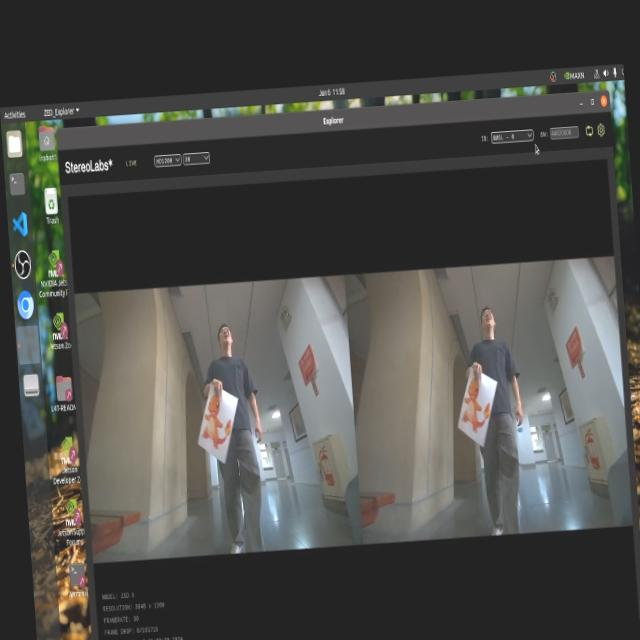red: (452, 370, 498, 440), (198, 386, 238, 451)
